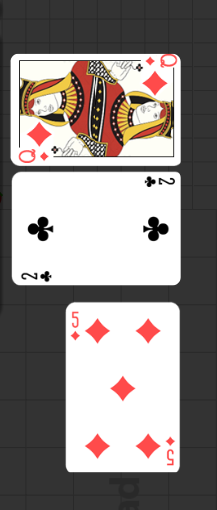2C: (142, 176, 176, 189)
9D: (163, 435, 175, 468)
QD: (134, 66, 181, 110), (14, 133, 60, 177)
